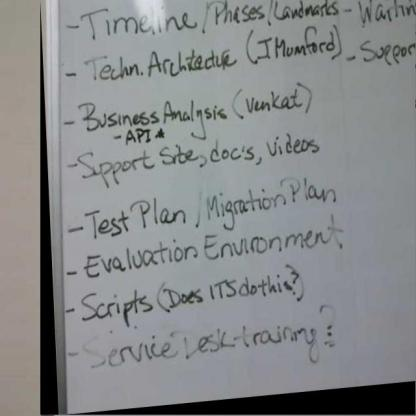Handwritten text: (72, 161, 346, 247), (72, 307, 327, 393), (77, 210, 356, 285), (69, 121, 333, 191), (163, 268, 294, 318), (73, 95, 233, 134), (79, 47, 240, 82), (77, 5, 197, 39), (256, 23, 339, 67), (77, 287, 158, 325), (354, 37, 416, 68), (244, 82, 304, 114), (360, 0, 414, 28), (274, 2, 344, 22), (210, 4, 269, 25)
Whiteboard: (46, 0, 416, 415)
